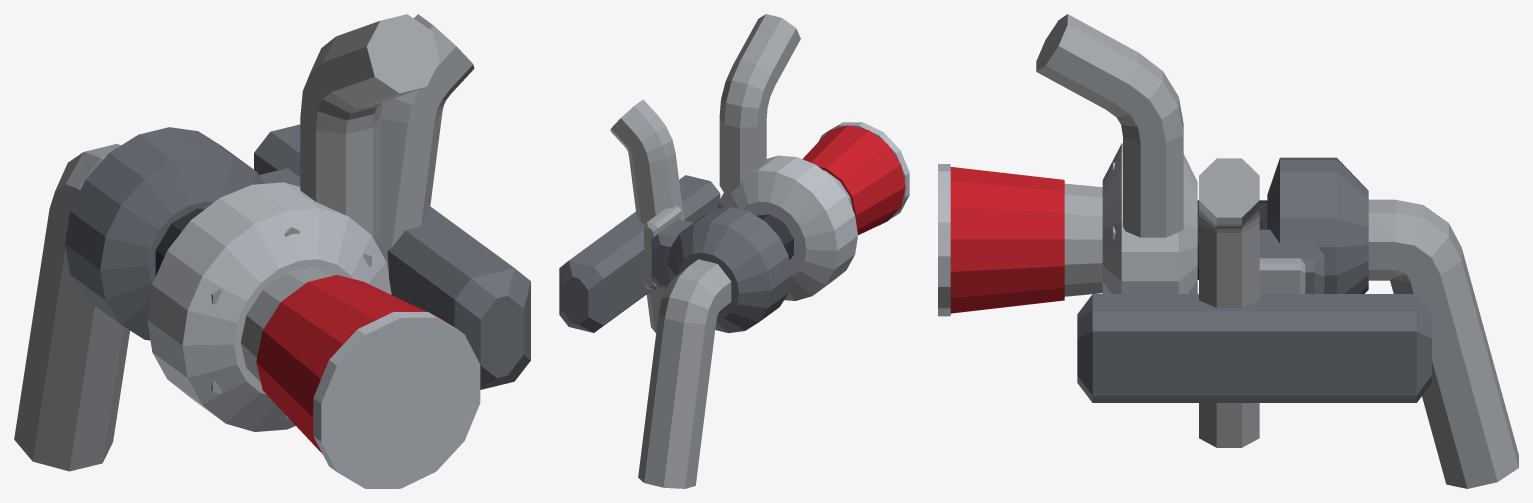
Rendered from hana_roadster.glb.
3 renders of one model, left to right at view 1: azimuth 30°, elevation 25°; view 2: azimuth 150°, elevation 25°; view 3: azimuth 270°, elevation 25°, orthographic. The views are drawn at different scales.
Visible parts, largest first — view 1: model; view 2: model; view 3: model.
Boxes of the visible parts, x1,y1,x2,y2 form: model: (14, 14, 530, 488); model: (559, 14, 909, 488); model: (938, 14, 1518, 488).
Bounding box in the file's own units: 0.2582 × 0.4247 × 0.4587.
2 materials, 1 textured.
